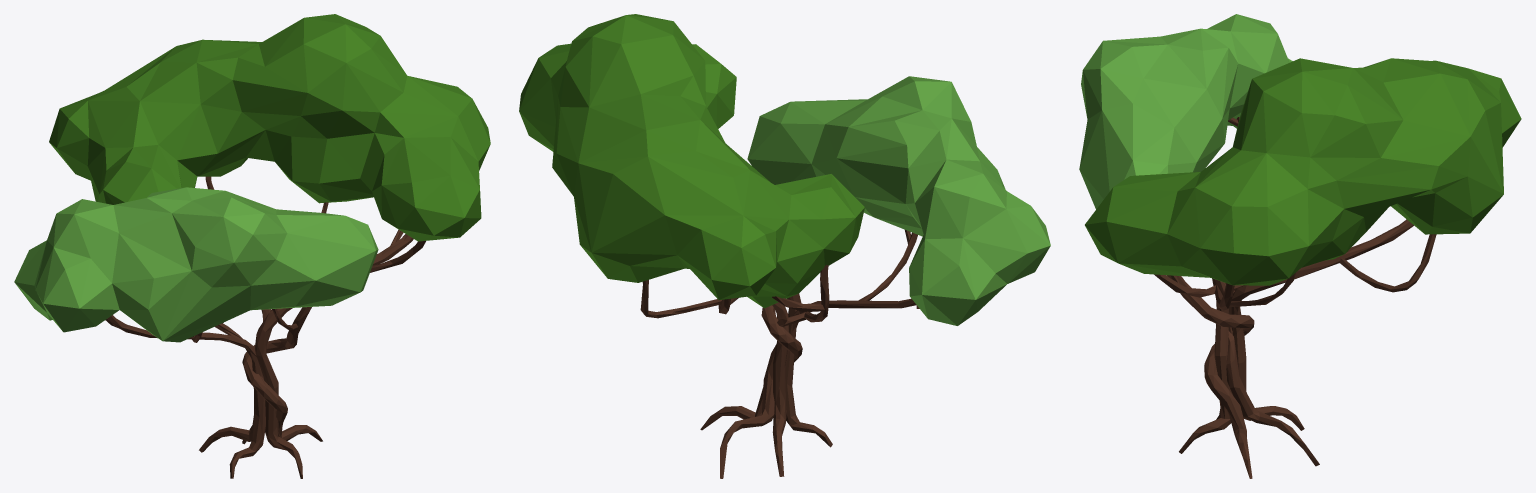
File: tree10.fbx
The picture shows the model from 3 angles, left to right: view 1: azimuth 30°, elevation 25°; view 2: azimuth 150°, elevation 25°; view 3: azimuth 270°, elevation 25°; orthographic projection. The views are drawn at different scales.
Parts seen in each view (by area): view 1: tree10_leaves, tree10_trunk; view 2: tree10_leaves, tree10_trunk; view 3: tree10_leaves, tree10_trunk.
Boxes of the visible parts, x1,y1,x2,y2 form: tree10_leaves: (14, 14, 490, 342); tree10_trunk: (105, 176, 425, 478); tree10_leaves: (519, 14, 1050, 325); tree10_trunk: (640, 230, 919, 478); tree10_leaves: (1079, 14, 1521, 285); tree10_trunk: (1154, 117, 1436, 478).
Bounding box in the file's own units: 11.13 × 9.28 × 8.33.
